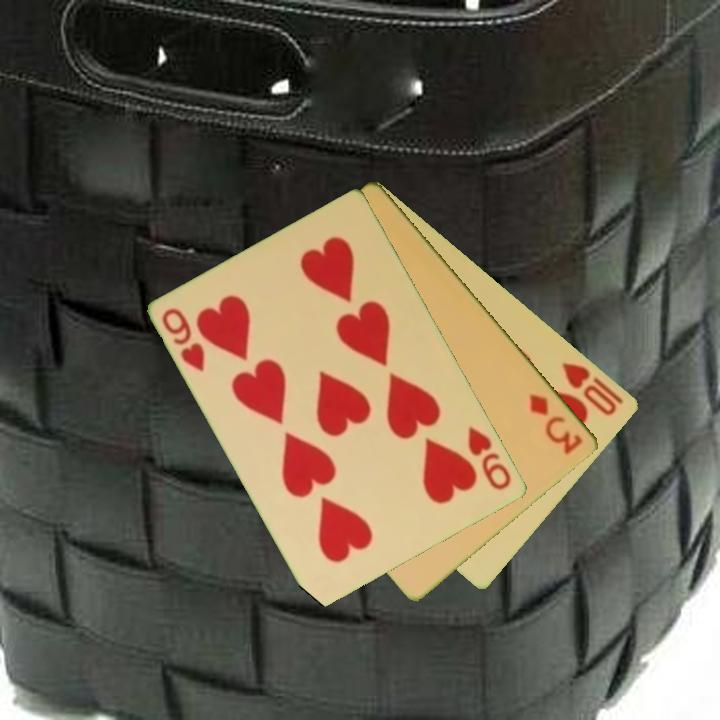10h: (559, 358, 627, 419)
3d: (526, 390, 587, 458)
9h: (158, 304, 209, 376), (464, 423, 515, 493)
